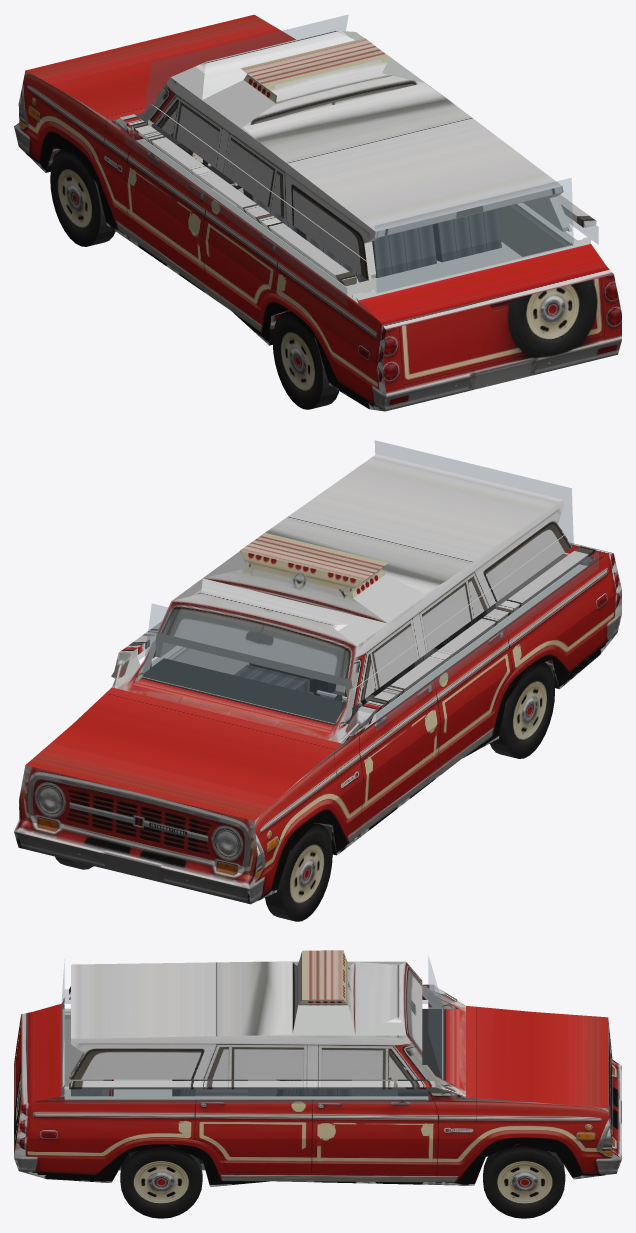
File: fire_chief_car.glb
The picture shows the model from 3 angles, top to bottom: view 1: azimuth 30°, elevation 25°; view 2: azimuth 150°, elevation 25°; view 3: azimuth 270°, elevation 25°; orthographic projection. The views are drawn at different scales.
Parts seen in each view (by area): view 1: fire_chief_car, fire_chief_car_cabin, wheel_FL, wheel_BL; view 2: fire_chief_car, fire_chief_car_cabin, wheel_FL, wheel_BL; view 3: fire_chief_car, fire_chief_car_cabin, wheel_FR, wheel_BR.
Part boxes in pixels (left/top/right/bottom): fire_chief_car: left=14, top=14, right=621, bottom=411; fire_chief_car_cabin: left=124, top=15, right=598, bottom=305; wheel_FL: left=50, top=150, right=115, bottom=246; wheel_BL: left=272, top=311, right=339, bottom=409; fire_chief_car: left=14, top=454, right=621, bottom=904; fire_chief_car_cabin: left=137, top=440, right=598, bottom=731; wheel_FL: left=265, top=823, right=332, bottom=921; wheel_BL: left=490, top=662, right=554, bottom=758; fire_chief_car: left=14, top=950, right=621, bottom=1186; fire_chief_car_cabin: left=61, top=956, right=443, bottom=1170; wheel_FR: left=483, top=1144, right=565, bottom=1218; wheel_BR: left=120, top=1144, right=202, bottom=1218.
Size of the model in its own units: 1.96 by 1.8 by 5.
Materials: 11 (4 with a texture image).
